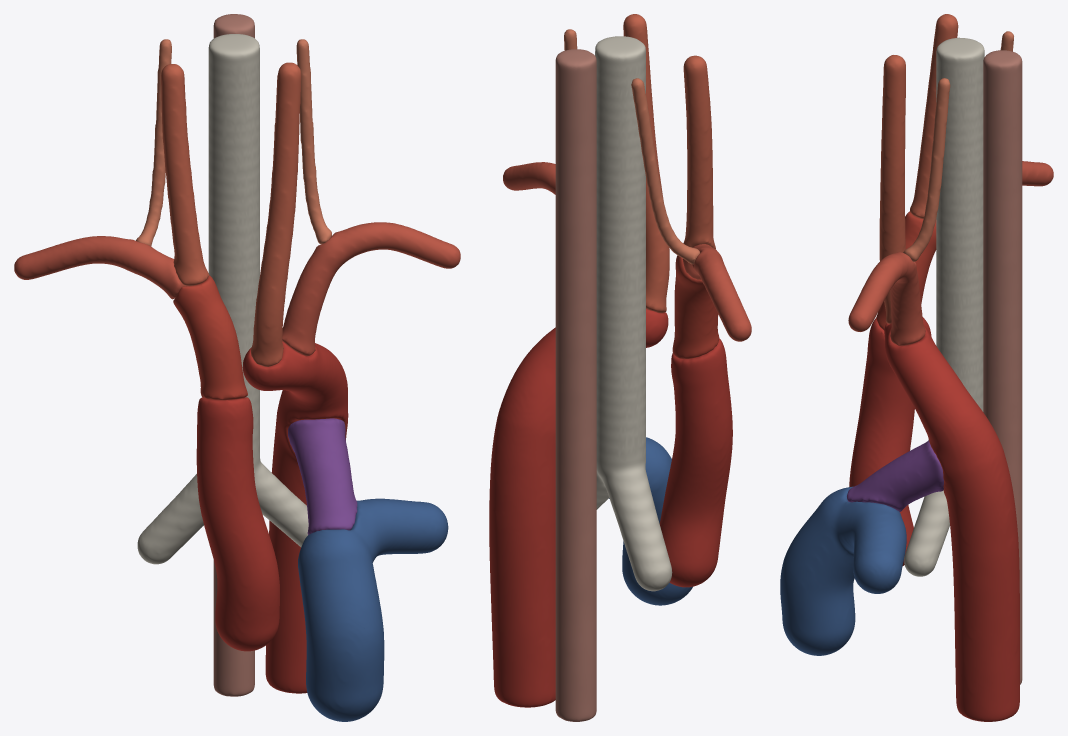
The model's file is aorta_iaa_c.glb.
3 renders of one model, left to right at view 1: azimuth 30°, elevation 25°; view 2: azimuth 150°, elevation 25°; view 3: azimuth 270°, elevation 25°, orthographic. The views are drawn at different scales.
Visible parts, largest first — view 1: aorta, trachea, pulmonary_trunk, left_common_carotid, left_subclavian, right_common_carotid, patent_ductus, brachiocephalic_trunk, right_subclavian, oesophagus, left_vertebral, right_vertebral; view 2: aorta, oesophagus, trachea, right_common_carotid, brachiocephalic_trunk, left_common_carotid, right_subclavian, right_vertebral, pulmonary_trunk, left_subclavian; view 3: aorta, trachea, oesophagus, pulmonary_trunk, left_common_carotid, left_subclavian, patent_ductus, right_common_carotid, left_vertebral, brachiocephalic_trunk, right_subclavian.
Part boxes in pixels (left/top/right/bottom): aorta: left=196, top=341, right=348, bottom=693; trachea: left=137, top=34, right=308, bottom=564; pulmonary_trunk: left=298, top=498, right=448, bottom=721; left_common_carotid: left=251, top=62, right=301, bottom=366; left_subclavian: left=282, top=222, right=460, bottom=355; right_common_carotid: left=161, top=64, right=209, bottom=285; patent_ductus: left=288, top=418, right=357, bottom=534; brachiocephalic_trunk: left=173, top=275, right=247, bottom=400; right_subclavian: left=14, top=236, right=189, bottom=299; oesophagus: left=213, top=14, right=254, bottom=696; left_vertebral: left=296, top=39, right=331, bottom=244; right_vertebral: left=136, top=39, right=171, bottom=246; aorta: left=489, top=309, right=732, bottom=707; oesophagus: left=555, top=49, right=596, bottom=721; trachea: left=595, top=36, right=672, bottom=591; right_common_carotid: left=683, top=55, right=715, bottom=249; brachiocephalic_trunk: left=672, top=250, right=719, bottom=358; left_common_carotid: left=623, top=14, right=669, bottom=313; right_subclavian: left=682, top=244, right=751, bottom=341; right_vertebral: left=631, top=78, right=700, bottom=264; pulmonary_trunk: left=609, top=437, right=692, bottom=605; left_subclavian: left=503, top=162, right=555, bottom=194; aorta: left=849, top=317, right=1019, bottom=721; trachea: left=904, top=37, right=984, bottom=576; oesophagus: left=983, top=50, right=1022, bottom=684; pulmonary_trunk: left=780, top=486, right=906, bottom=655; left_common_carotid: left=879, top=55, right=905, bottom=324; left_subclavian: left=848, top=252, right=925, bottom=345; patent_ductus: left=847, top=440, right=943, bottom=511; right_common_carotid: left=910, top=14, right=958, bottom=218; left_vertebral: left=903, top=78, right=950, bottom=261; brachiocephalic_trunk: left=876, top=211, right=936, bottom=330; right_subclavian: left=1022, top=161, right=1053, bottom=186.
Size of the model in its own units: 12.31 by 22.78 by 8.97.
